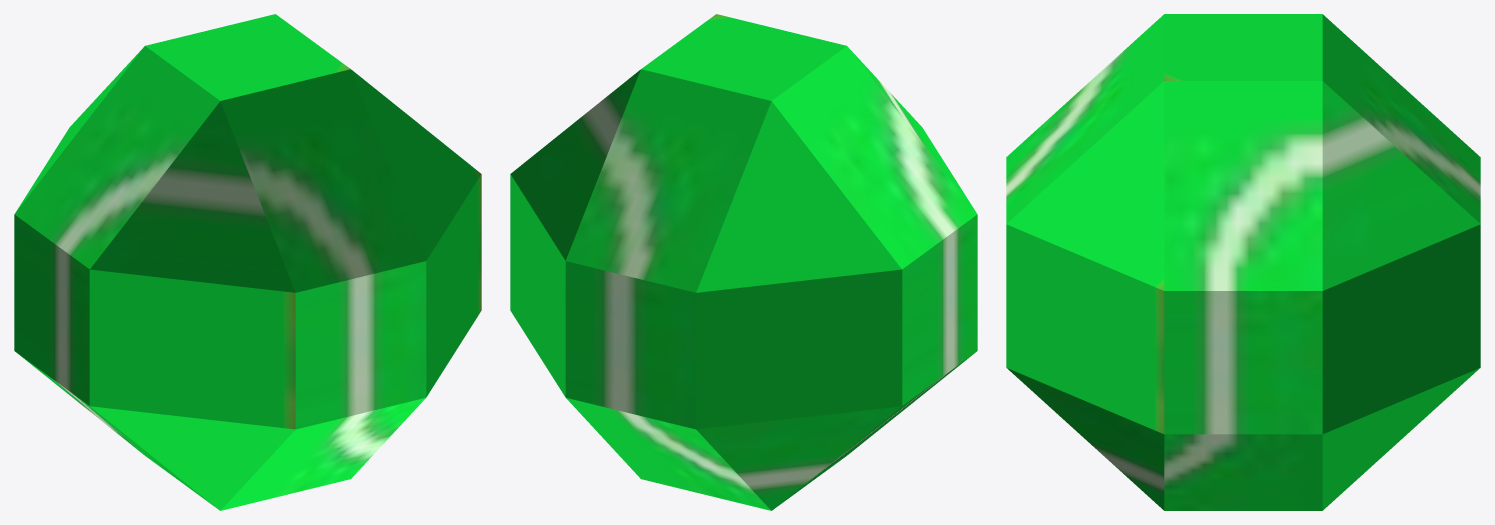
File: tennisTest.glb
3 renders of one model, left to right at view 1: azimuth 30°, elevation 25°; view 2: azimuth 150°, elevation 25°; view 3: azimuth 270°, elevation 25°, orthographic. The views are drawn at different scales.
Parts seen in each view (by area): view 1: tennisball; view 2: tennisball; view 3: tennisball.
Part boxes in pixels (<box>): tennisball: <box>14,14,481,510</box>; tennisball: <box>510,14,977,510</box>; tennisball: <box>1006,14,1480,510</box>.
Bounding box in the file's own units: 0.45 × 0.45 × 0.45.
1 material, 1 textured.
